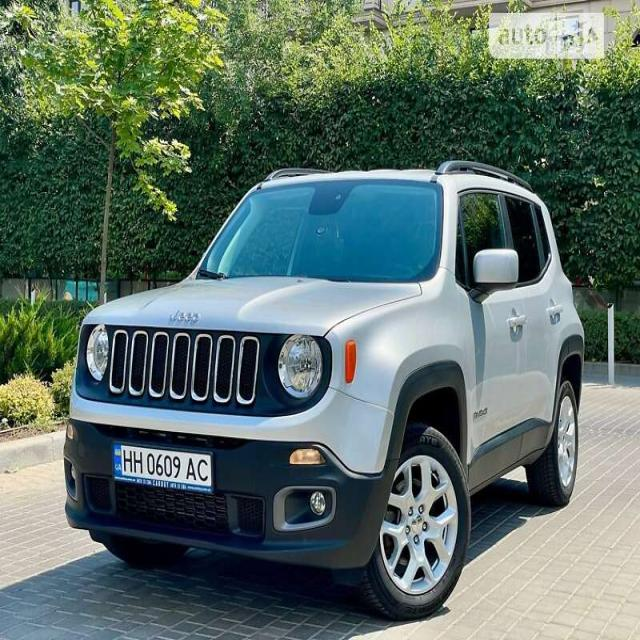plate: (110, 439, 216, 497)
